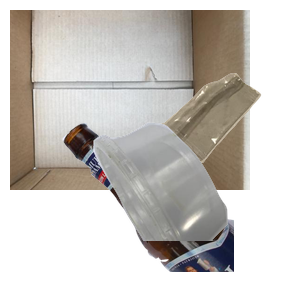cardboard: (10, 10, 250, 190)
glass: (60, 120, 300, 300)
plastic: (91, 120, 300, 300)
trash: (158, 71, 300, 227)
